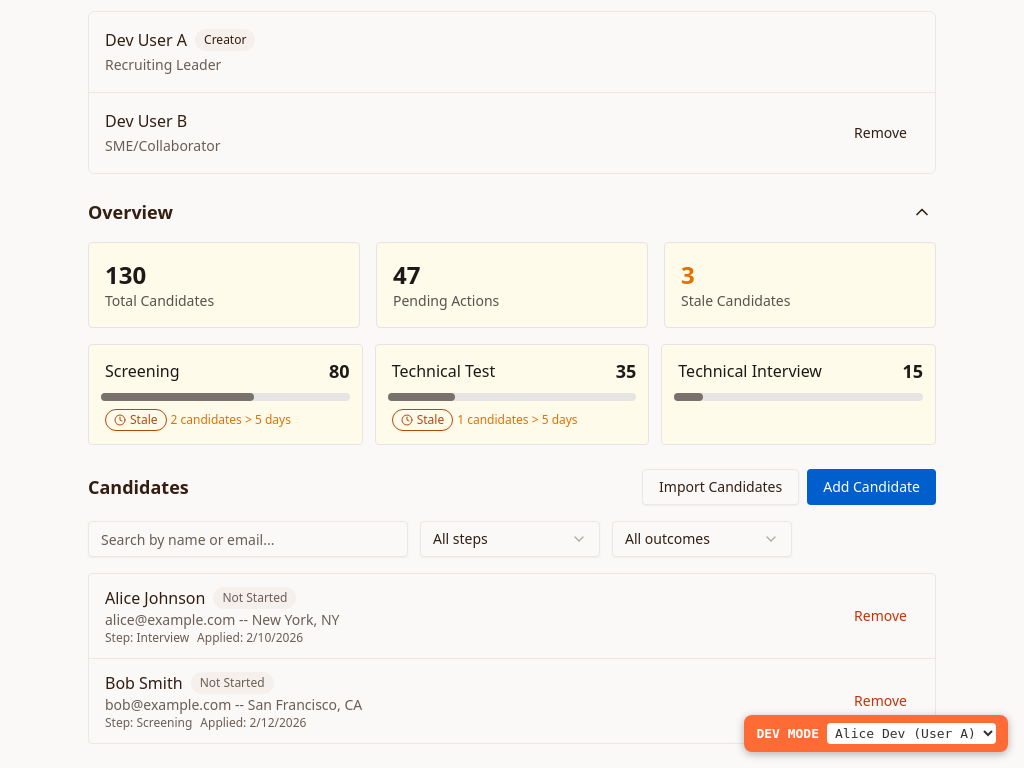
Scenario: RecruitmentPage › should filter to stale candidates when stale indicator is clicked
(page scrolled)
Expected: the element named "Total Candidates: 130" is shown, [88, 242, 360, 328]
Click the button with aria-label "show stale candidates at step: screening" at (198, 420), box [101, 409, 295, 431]
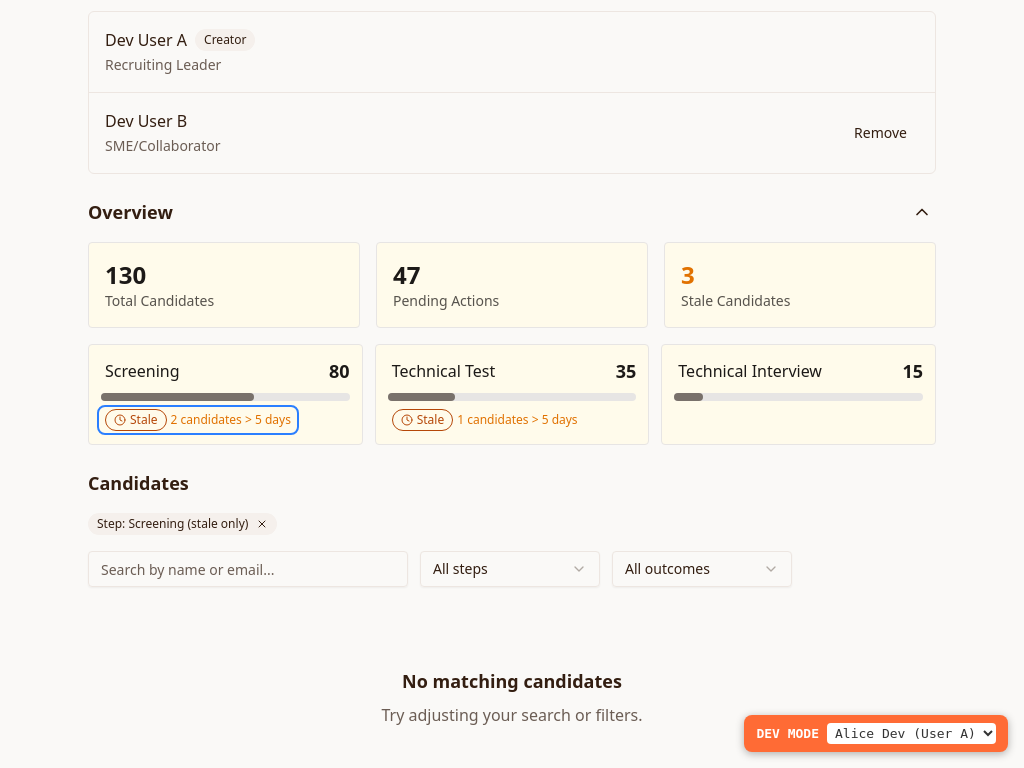
Result: the text "Step: Screening (stale only)" is shown at [88, 513, 277, 535]
